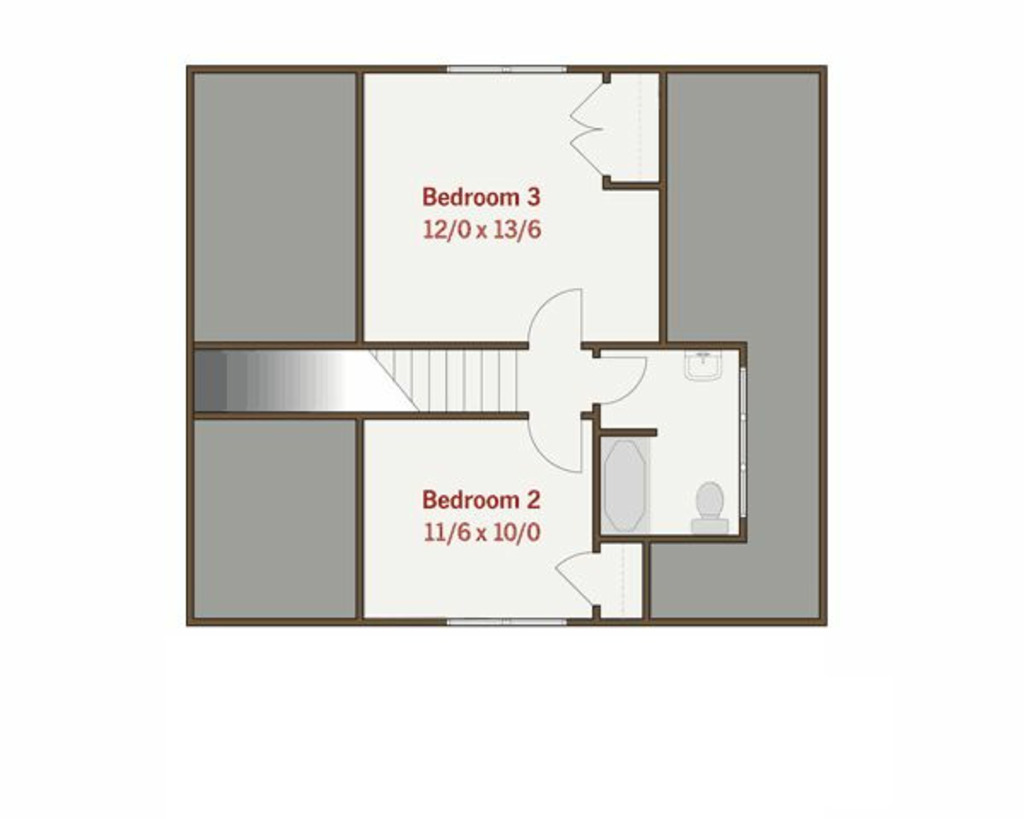door: (563, 77, 620, 196), (519, 405, 604, 484), (519, 279, 593, 355), (558, 544, 602, 616), (597, 356, 653, 410)
large_sink: (682, 479, 743, 543)
small_sink: (680, 346, 731, 388)
stairs: (221, 346, 524, 416)
tub: (600, 438, 650, 534)
